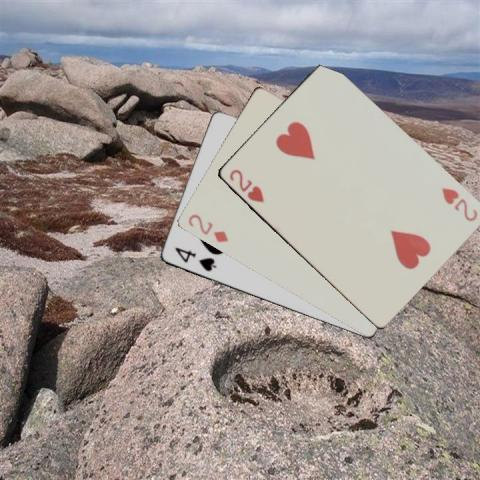2d: (184, 210, 229, 244)
2h: (437, 184, 479, 223), (226, 166, 265, 204)
4s: (171, 244, 218, 273)
